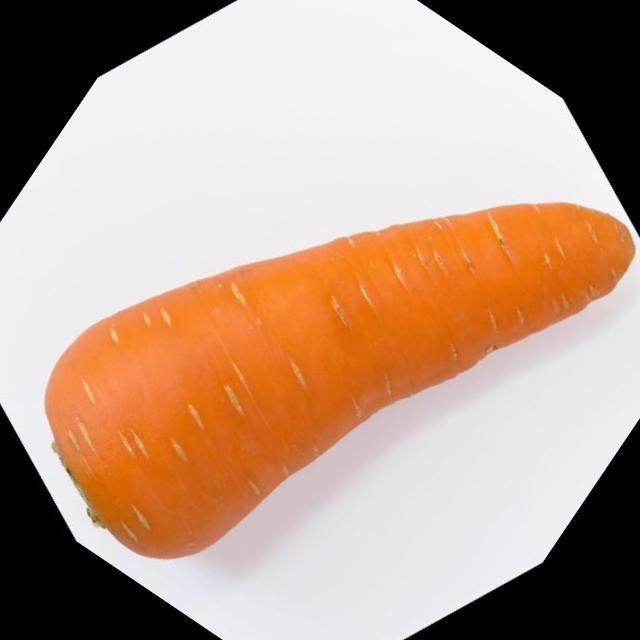carrot: (46, 204, 635, 557)
